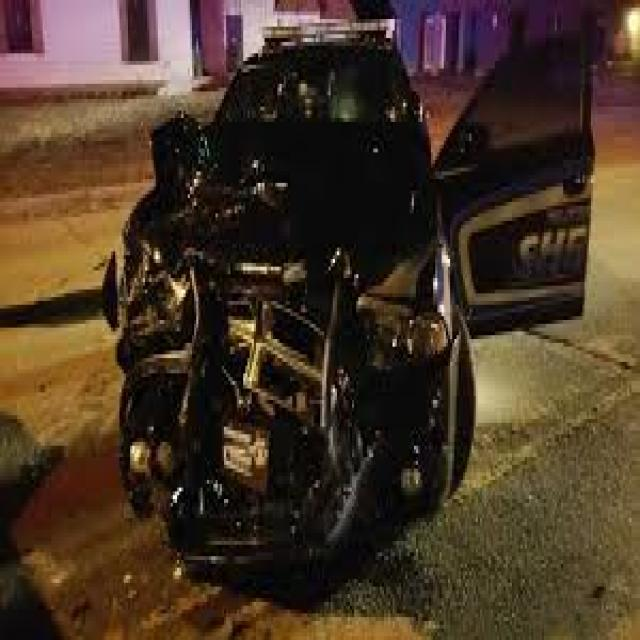severe: (121, 45, 506, 581)
